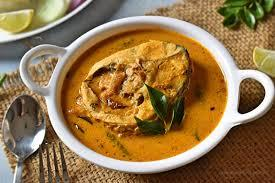Fish Curry: (75, 52, 209, 151)
